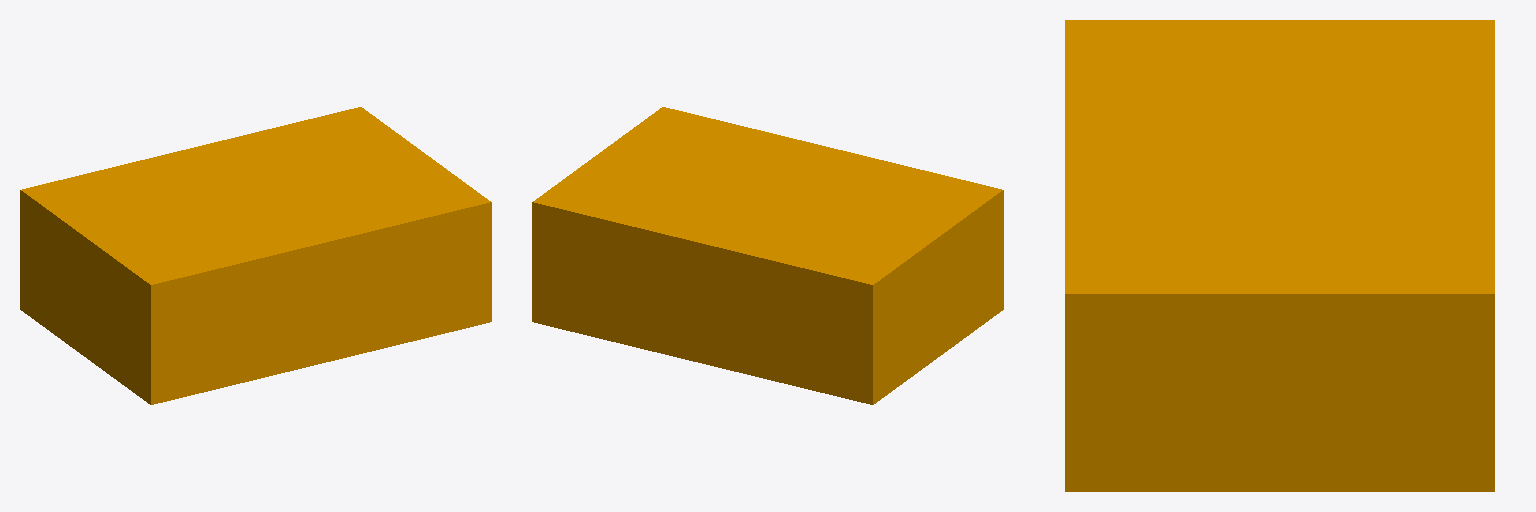
URDF robot description (iggy):
<?xml version="1.0" ?>
<!-- =================================================================================== -->
<!-- |    This document was autogenerated by xacro from [local-path]/catkin_ws/src/iggy/iggy_description/urdf/iggy3.urdf.xacro | -->
<!-- |    EDITING THIS FILE BY HAND IS NOT RECOMMENDED                                 | -->
<!-- =================================================================================== -->
<robot name="iggy" xmlns:xacro="http://ros.org/wiki/xacro">
  <!-- rosrun gazebo_ros spawn_model -urdf -file `rospack find iggy_description`/urdf/iggy2.urdf -z 1 -model iggy1  -->
  <!-- see https://secure.wikimedia.org/wikipedia/en/wiki/List_of_moment_of_inertia_tensors -->
  <!-- Source: https://raw.githubusercontent.com/uos/uos_tools/fuerte/uos_common_urdf/common.xacro -->
  <!-- #################### versions without origin #################### -->
  <!-- #################### versions with origin #################### -->
  <!--body -->
  <link name="chassis_link">
    <visual>
      <geometry>
        <box size="0.92 0.61 0.31"/>
      </geometry>
    </visual>
    <collision>
      <geometry>
        <box size="0.92 0.61 0.31"/>
      </geometry>
    </collision>
    <inertial>
      <mass value="25.0"/>
      <origin xyz="0 0 0"/>
      <inertia ixx="0.9754162765" ixy="0.0" ixz="0.0" iyy="1.96354088125" iyz="0.0" izz="2.53854065125"/>
    </inertial>
  </link>
</robot>

--- Render facts (derived) ---
Views: 3 orthographic renders of the robot side by side, from view 1: azimuth 30°, elevation 25°; view 2: azimuth 150°, elevation 25°; view 3: azimuth 270°, elevation 25°.
Model iggy with 1 links and 0 joints (none), rooted at chassis_link, posed every joint at zero.
Visible links, largest first — view 1: chassis_link; view 2: chassis_link; view 3: chassis_link.
Boxes of the visible links, x1,y1,x2,y2 form: chassis_link: [20, 107, 491, 404]; chassis_link: [532, 107, 1003, 404]; chassis_link: [1065, 20, 1494, 491].
Size in the robot's own frame: 0.92 by 0.61 by 0.31 metres.
Geometry: primitives only (box / cylinder / sphere), no mesh files.
